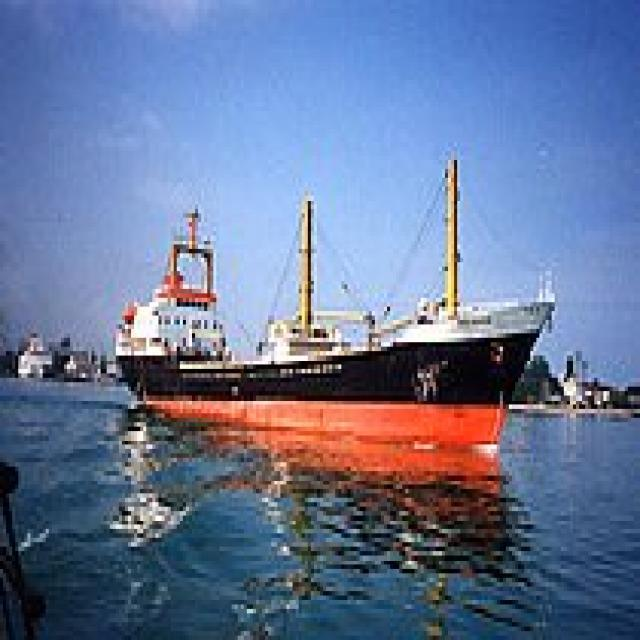Ship: (117, 161, 565, 481)
